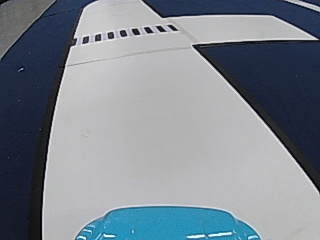CrossWalk: (74, 23, 177, 45)
